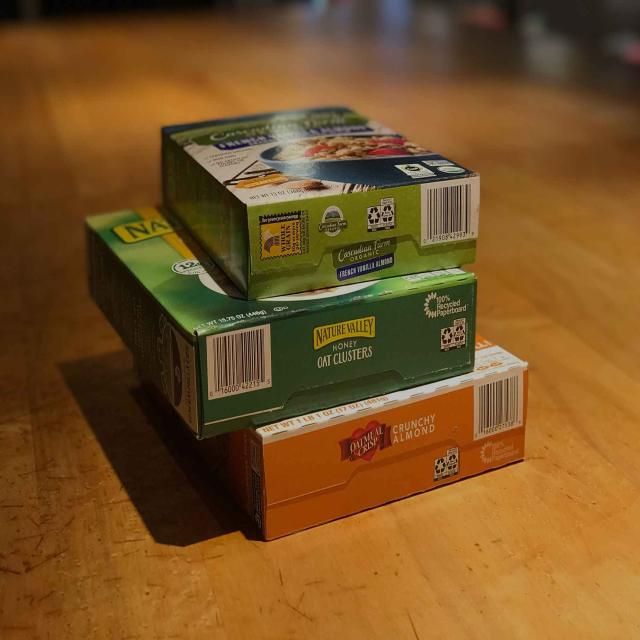cardboard: (91, 204, 524, 540), (162, 104, 483, 290)
